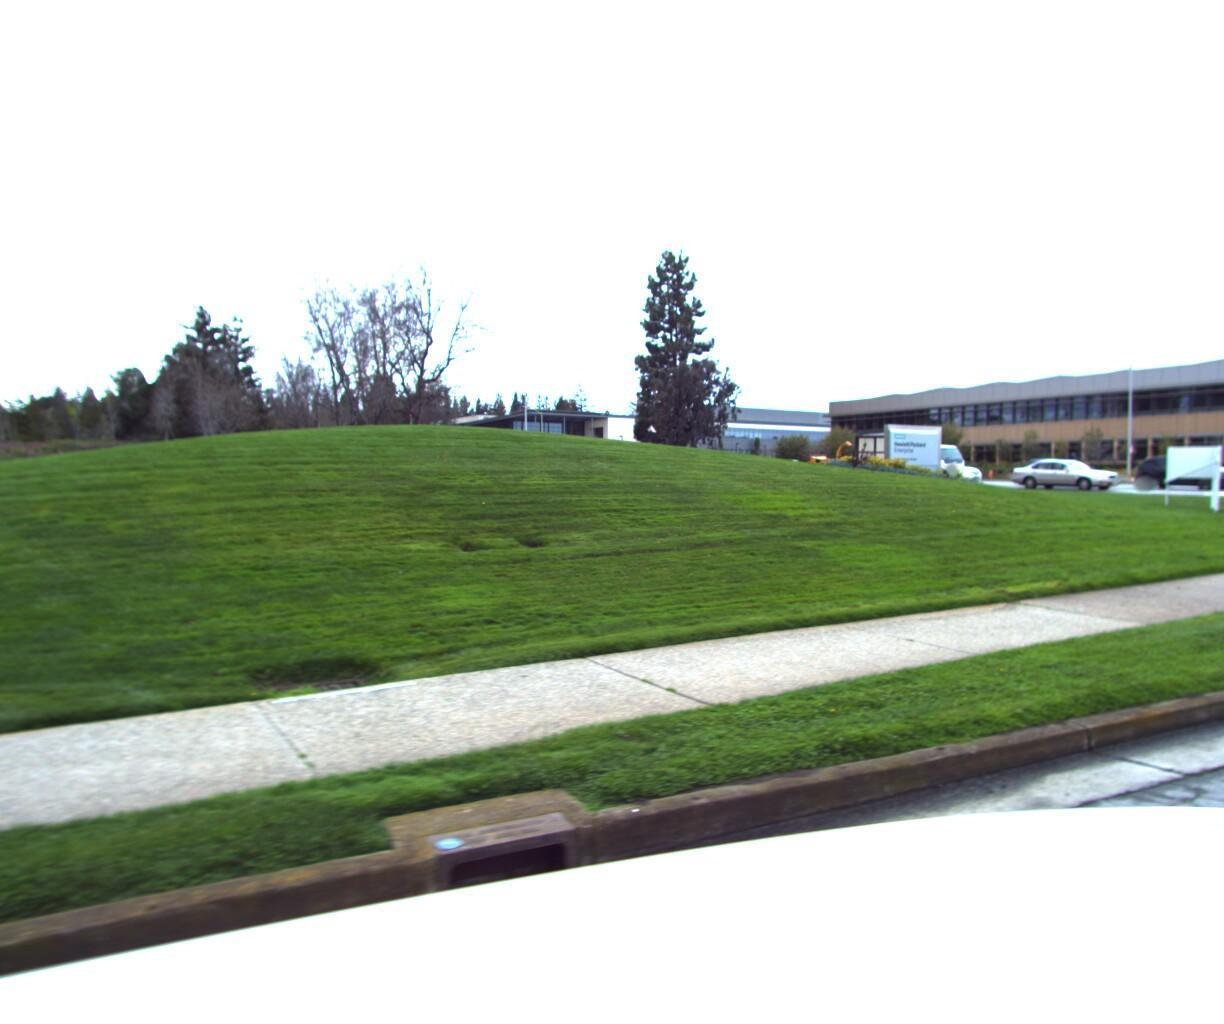car: (1002, 455, 1122, 487), (1121, 450, 1224, 487)
truck: (846, 424, 974, 482)
